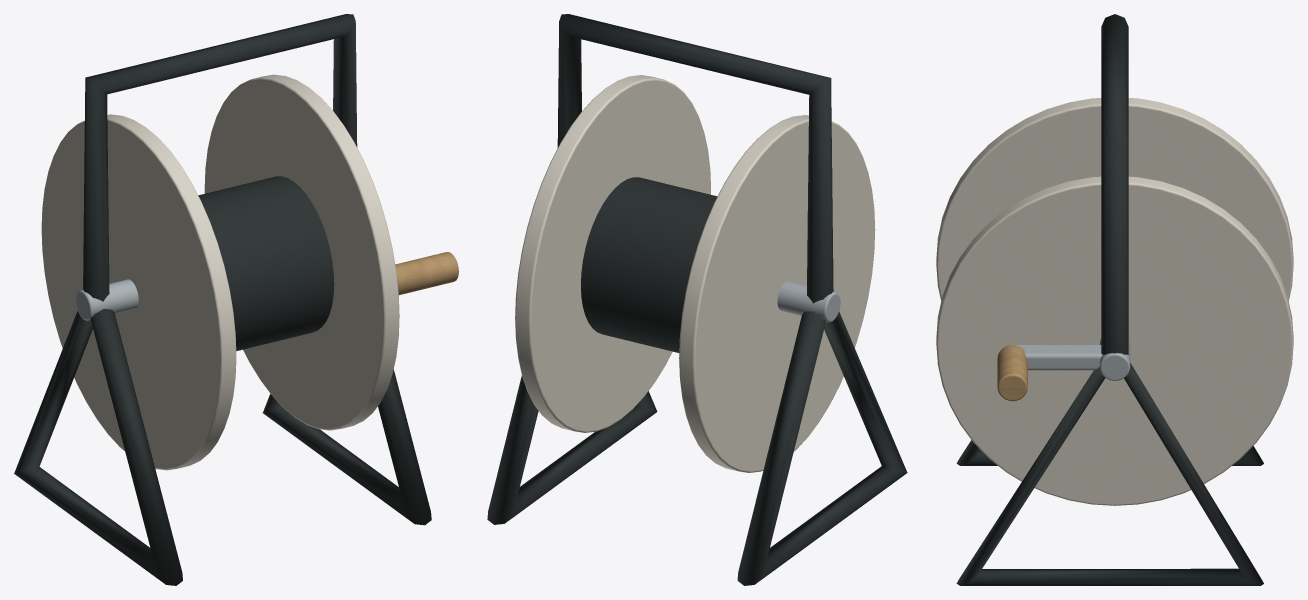
File: electrical-cable-reel.glb
3 renders of one model, left to right at view 1: azimuth 30°, elevation 25°; view 2: azimuth 150°, elevation 25°; view 3: azimuth 270°, elevation 25°, orthographic.
Parts seen in each view (by area): view 1: Cable reel side flange, Cable reel side flange.001, Cable reel winding drum, Reel triangular support, Reel upper carry handle, Reel triangular support.001, Crank free-turning grip, Reel bearing axle; view 2: Cable reel side flange, Cable reel side flange.001, Cable reel winding drum, Reel triangular support, Reel upper carry handle, Reel triangular support.001, Reel bearing axle; view 3: Cable reel side flange.001, Cable reel side flange, Reel triangular support.001, Reel upper carry handle, Reel crank arm, Crank free-turning grip, Reel triangular support, Reel bearing axle.
Part boxes in pixels (box(x1,y1,x2,y2)): Cable reel side flange: box(41, 114, 236, 470); Cable reel side flange.001: box(204, 74, 399, 430); Cable reel winding drum: box(198, 176, 334, 350); Reel triangular support: box(14, 309, 182, 585); Reel upper carry handle: box(83, 14, 357, 301); Reel triangular support.001: box(263, 369, 431, 525); Crank free-turning grip: box(395, 252, 458, 295); Reel bearing axle: box(76, 279, 138, 320); Cable reel side flange: box(679, 115, 875, 472); Cable reel side flange.001: box(515, 75, 710, 432); Cable reel winding drum: box(581, 177, 717, 352); Reel triangular support: box(737, 311, 907, 585); Reel upper carry handle: box(557, 14, 833, 303); Reel triangular support.001: box(487, 375, 657, 524); Reel bearing axle: box(777, 281, 840, 322); Cable reel side flange.001: box(936, 176, 1293, 505); Cable reel side flange: box(936, 98, 1293, 300); Reel triangular support.001: box(956, 363, 1263, 585); Reel upper carry handle: box(1101, 14, 1128, 354); Reel crank arm: box(1015, 345, 1102, 370); Crank free-turning grip: box(997, 345, 1027, 401); Reel triangular support: box(956, 440, 1263, 465); Reel bearing axle: box(1099, 339, 1130, 380).
Bounding box in the file's own units: 0.2375 × 0.3219 × 0.234.
Materials: 4 (4 with a texture image).
